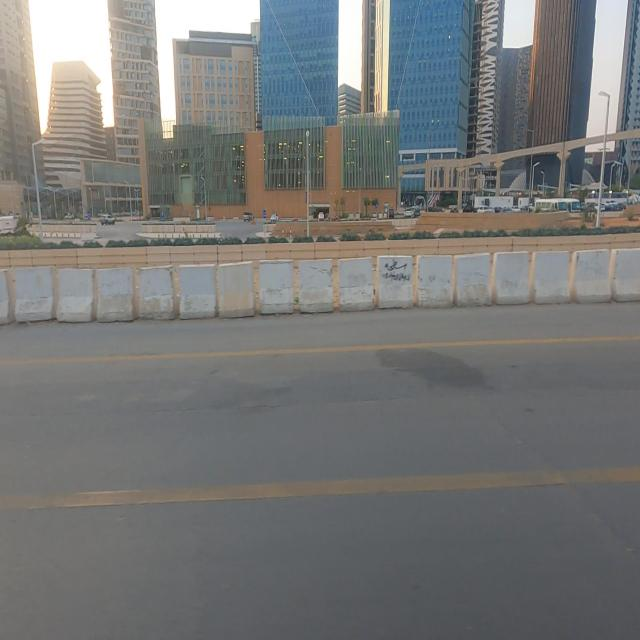Graffiti: (384, 261, 412, 284)
